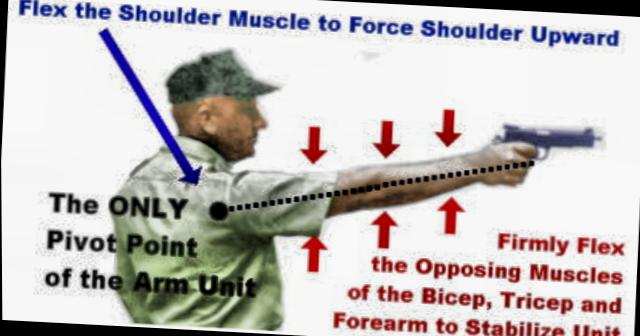pistol: (479, 115, 599, 196)
